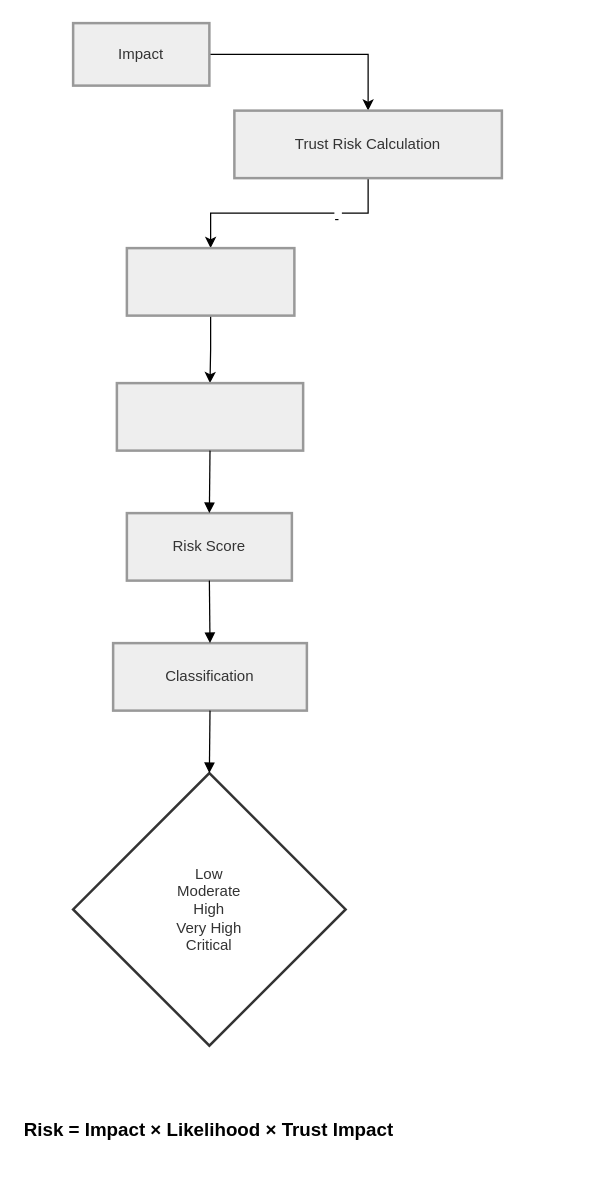
Some shapes in this 593 by 1181 pixel diagram are drawn without their labels. The shapes that lost their labels are listed below. From the top down, each one's centre as x and y in pixels, then its label:
At point 210,281: "Likelihood".
At point 209,416: "Trust Impact".
